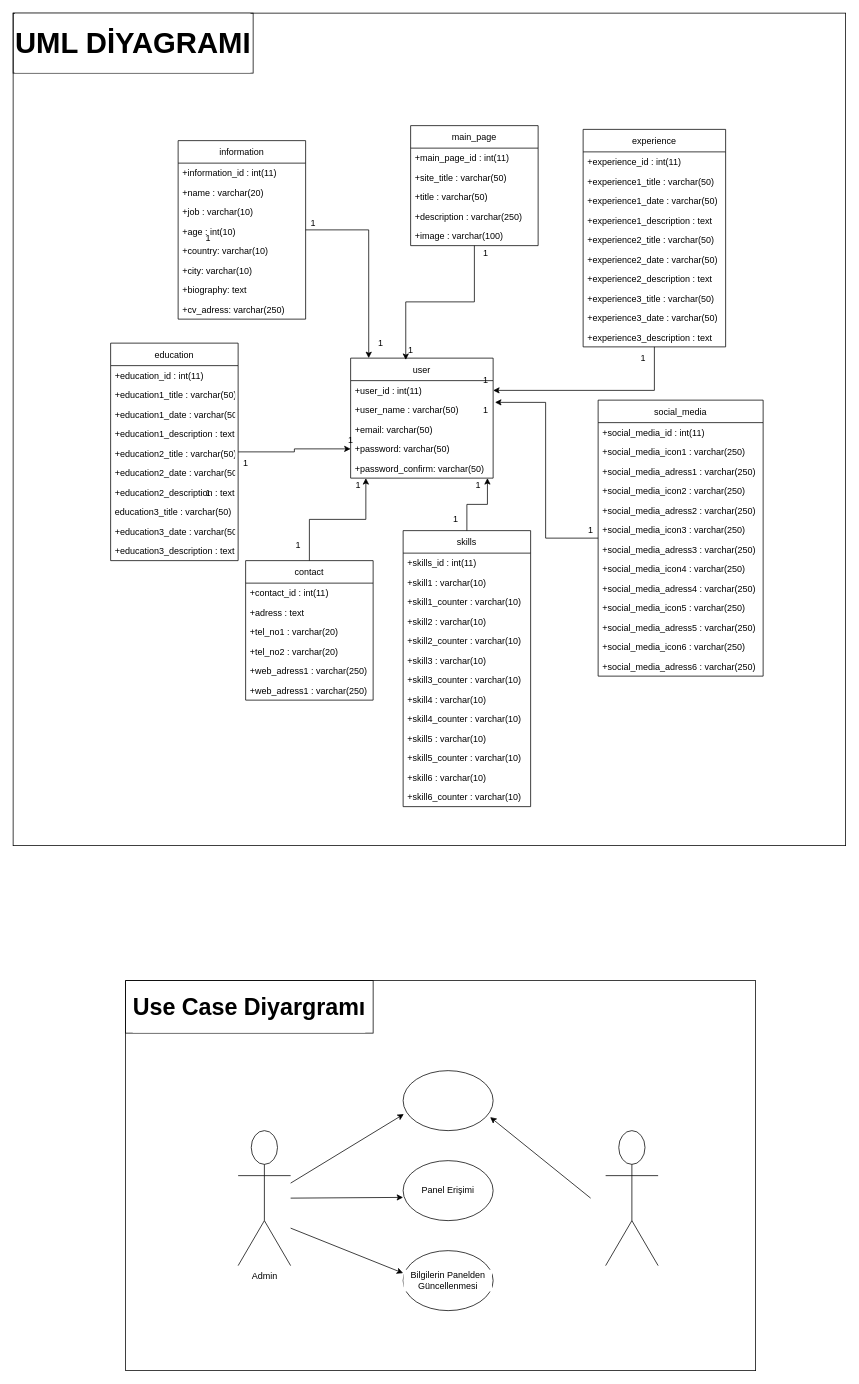
This 859x1384 diagram has some shape labels left out. The shapes that lost their labels are listed below. From the top down, each one's centre as x and y in pixels, then its label:
(447,1100): Siteyi Görüntüle
(631,1198): Ziyaretçi
